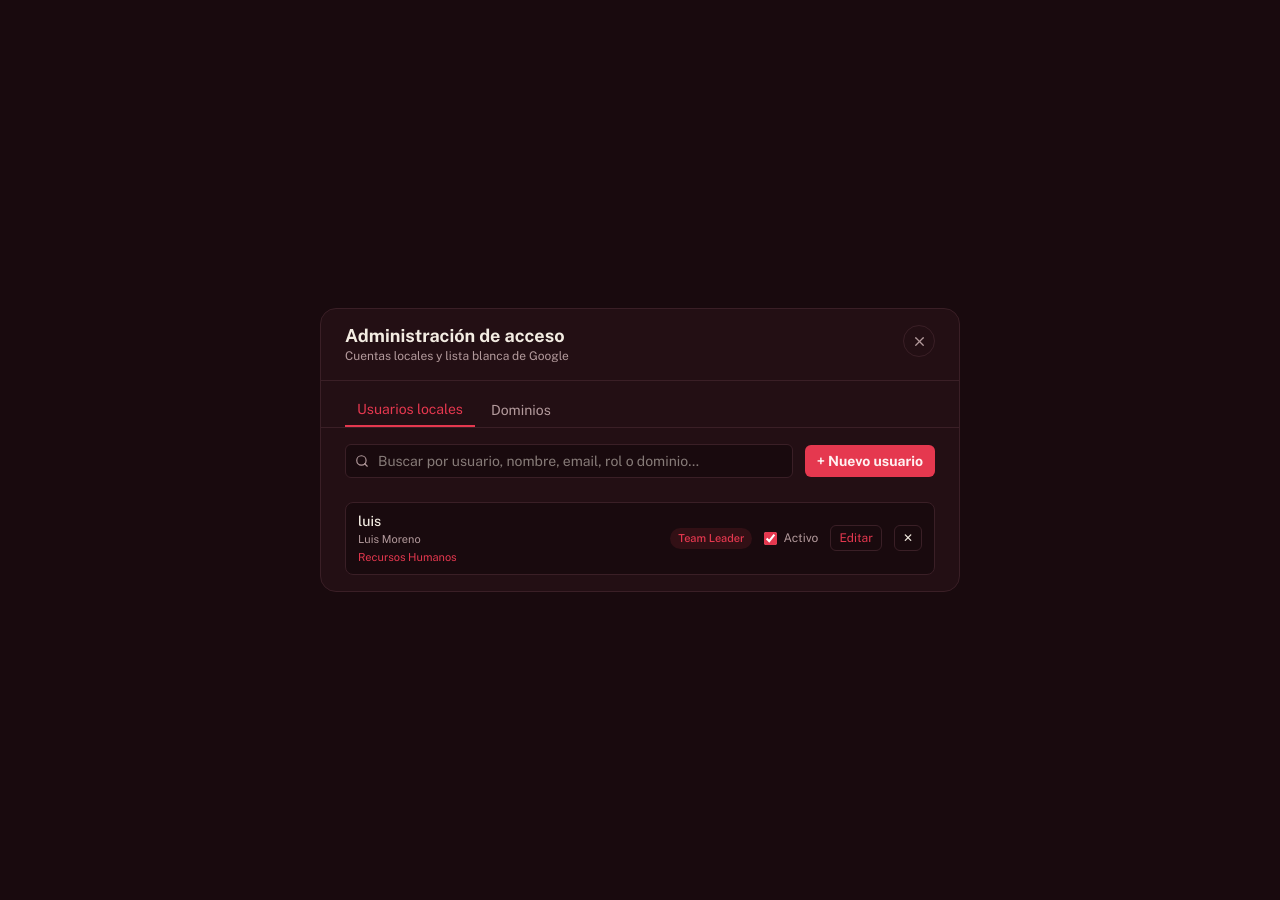
AdminUsuarios · panel del superusuario › el buscador filtra por nombre
Expected: the text "luis" is shown, [358,513,381,529]
Type "nadie" into the field labelled "Buscar por usuario, nombre, email, rol o dominio…" at (569, 461), box [345,444,793,478]
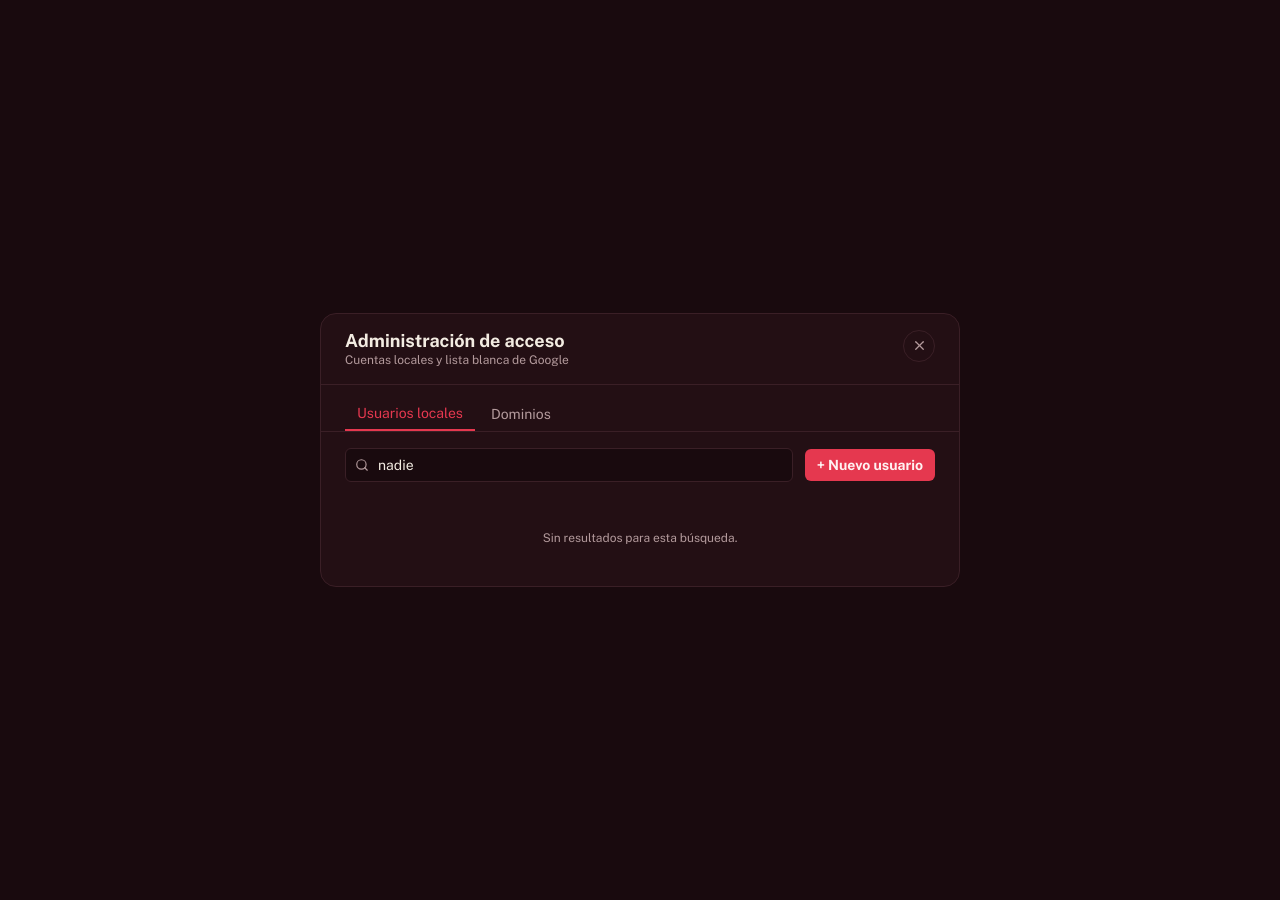
Expected: the text "luis" is gone
Expected: the text "Sin resultados para esta búsqueda." is shown, [543,531,737,545]
